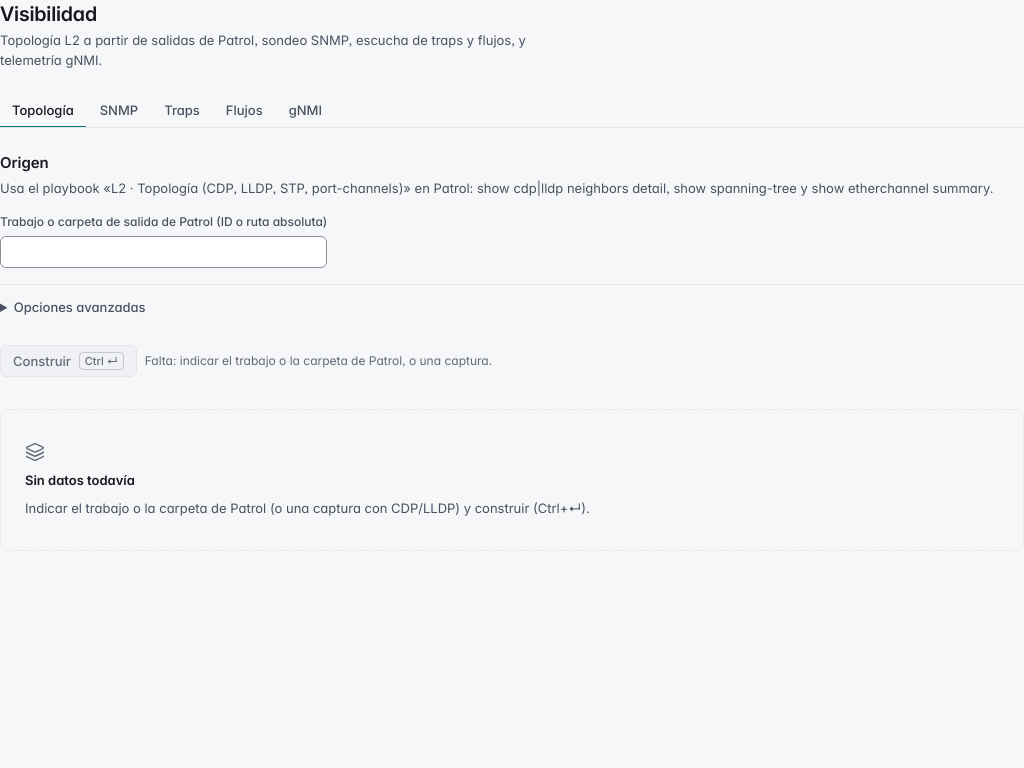
Test case: traps: escucha en 1162, muestra solo su ejecución y se detiene
This screenshot has width=1024, height=768.
Click the tab "Traps": [182, 111] box [152,94,212,128]
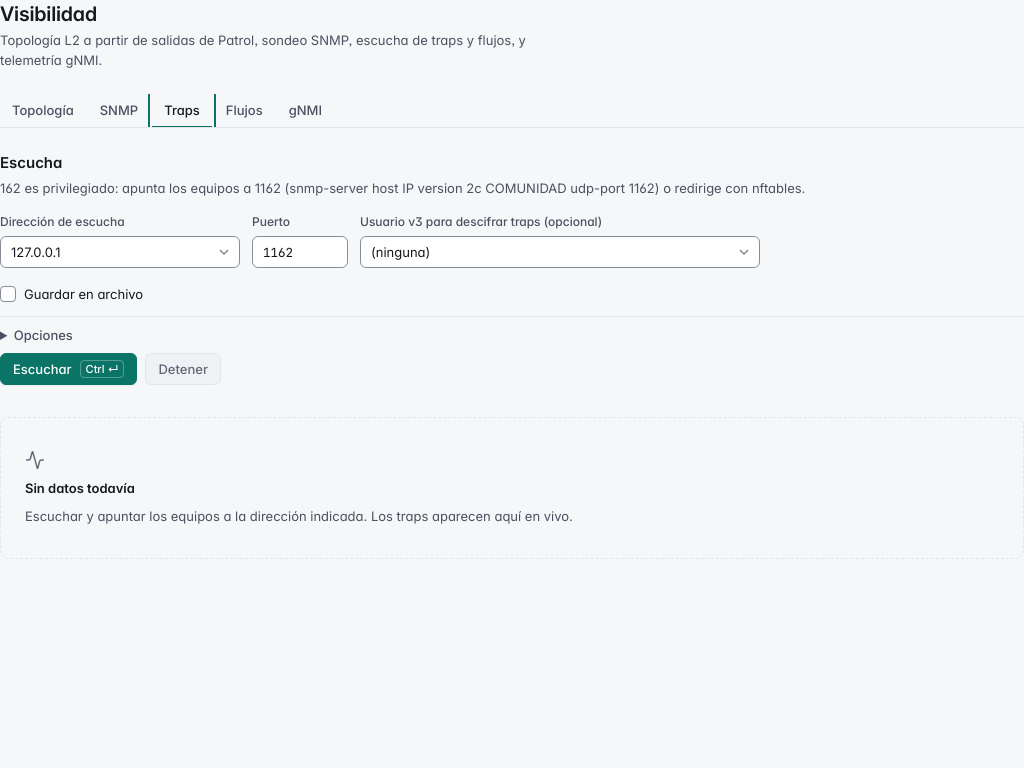
Click the button "Escuchar Ctrl ↵": [69, 369] box [0,353,138,385]
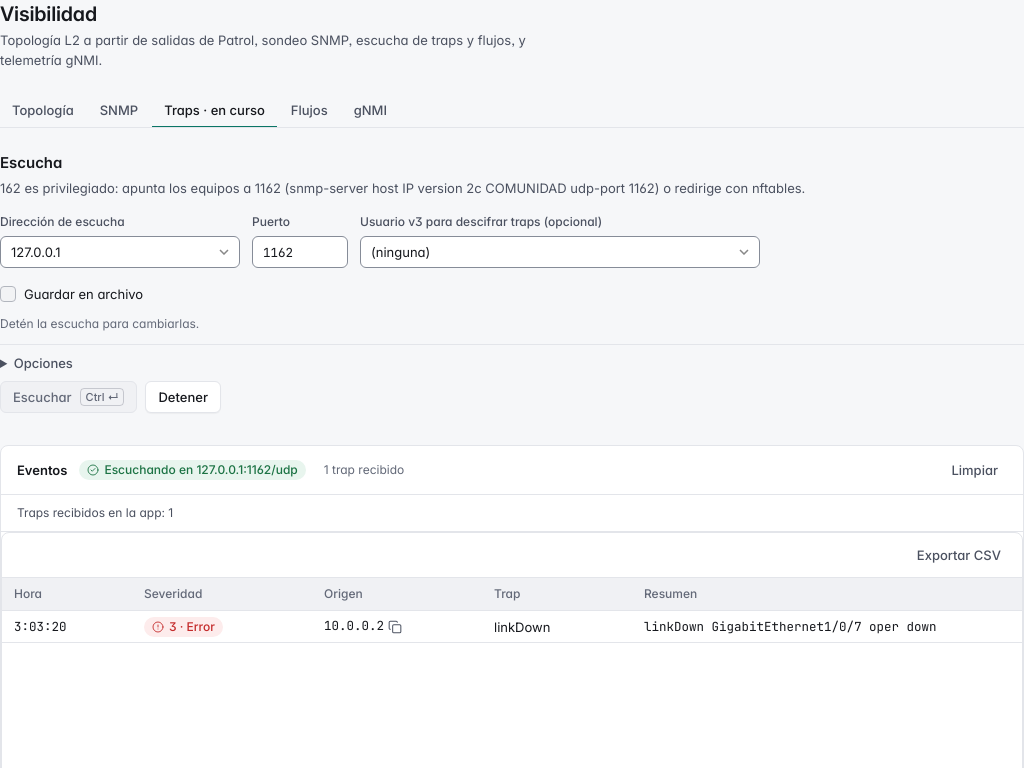
expect the cell "linkDown GigabitEthernet1/0/7 oper down" is shown: met, box [644,618,936,634]
expect the text "Escuchando en 127.0.0.1:1162/udp" is shown: met, box [79,460,306,480]
Click the button "Detener": [183, 397] box [146,381,221,413]
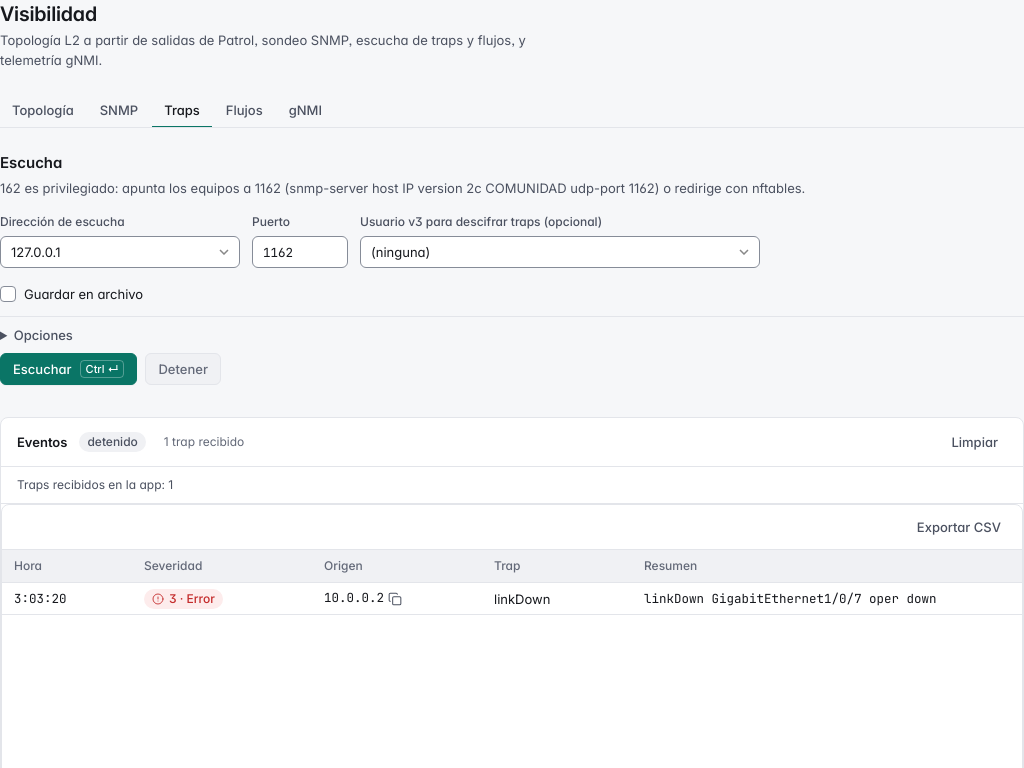
expect the button "Escuchar Ctrl ↵" is enabled: met, box [0,353,138,385]
